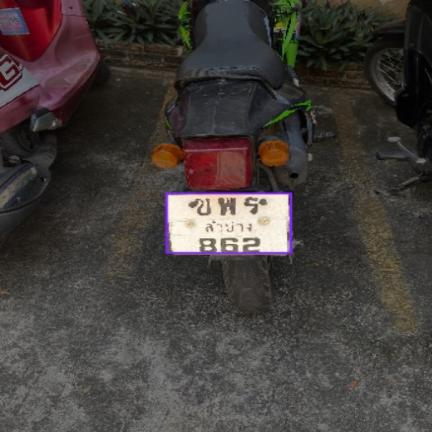2: (242, 237, 261, 253)
6: (219, 237, 239, 253)
8: (197, 237, 218, 252)
A02: (194, 197, 213, 216)
A30: (215, 196, 239, 216)
A35: (241, 196, 260, 216)
LPG: (201, 218, 256, 233)
